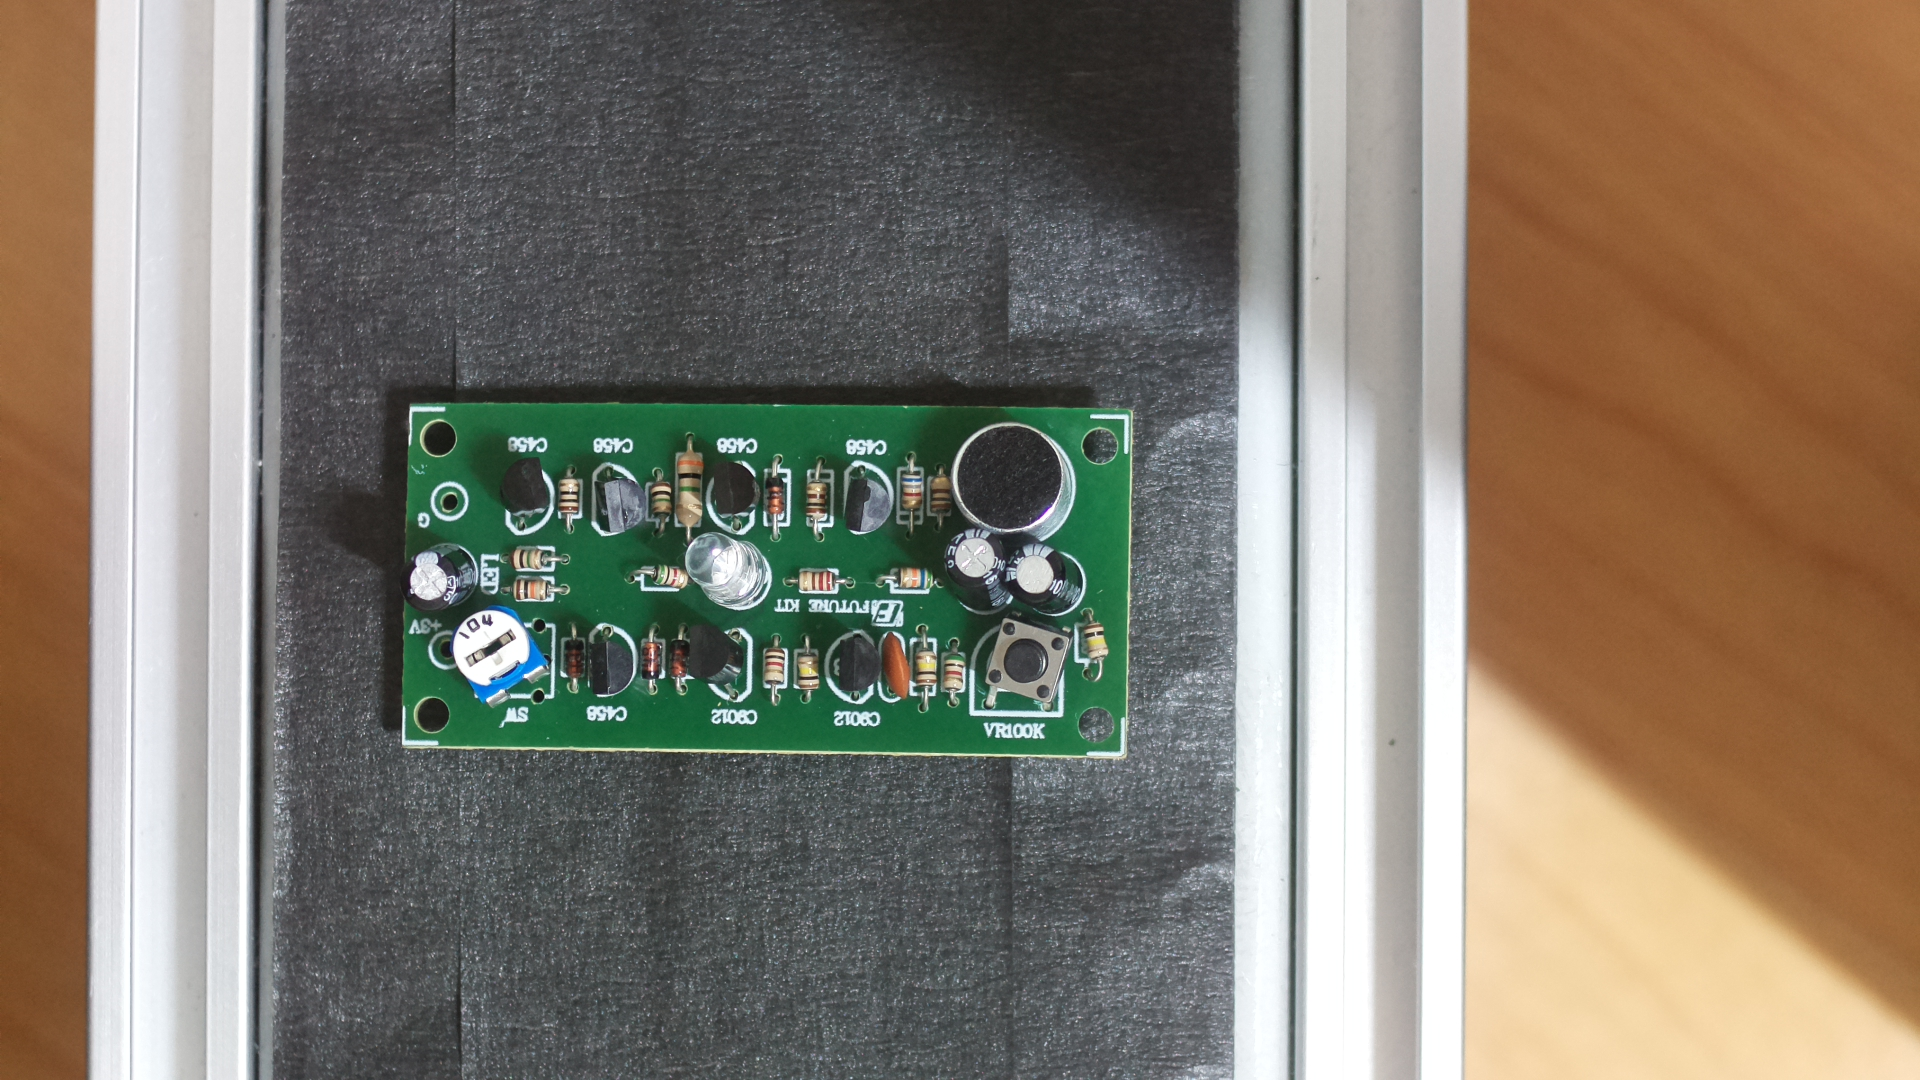A_Misordered: (393, 384, 1155, 794)
